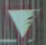Give way: (5, 4, 42, 44)
